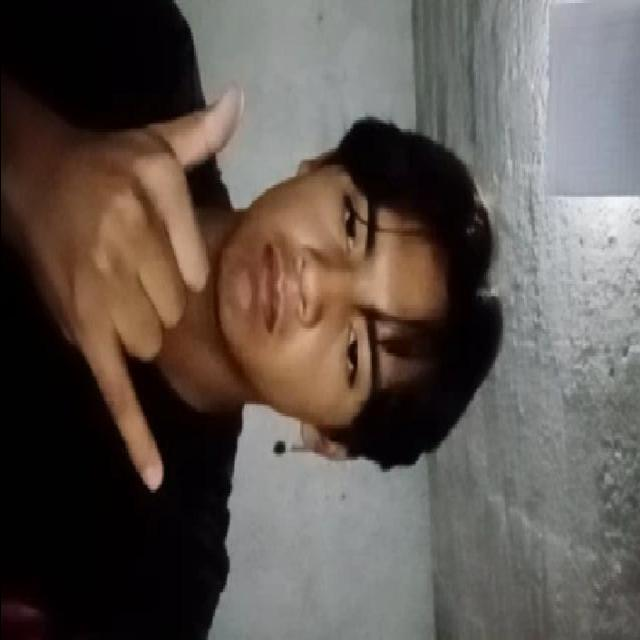Y: (26, 42, 256, 559)
